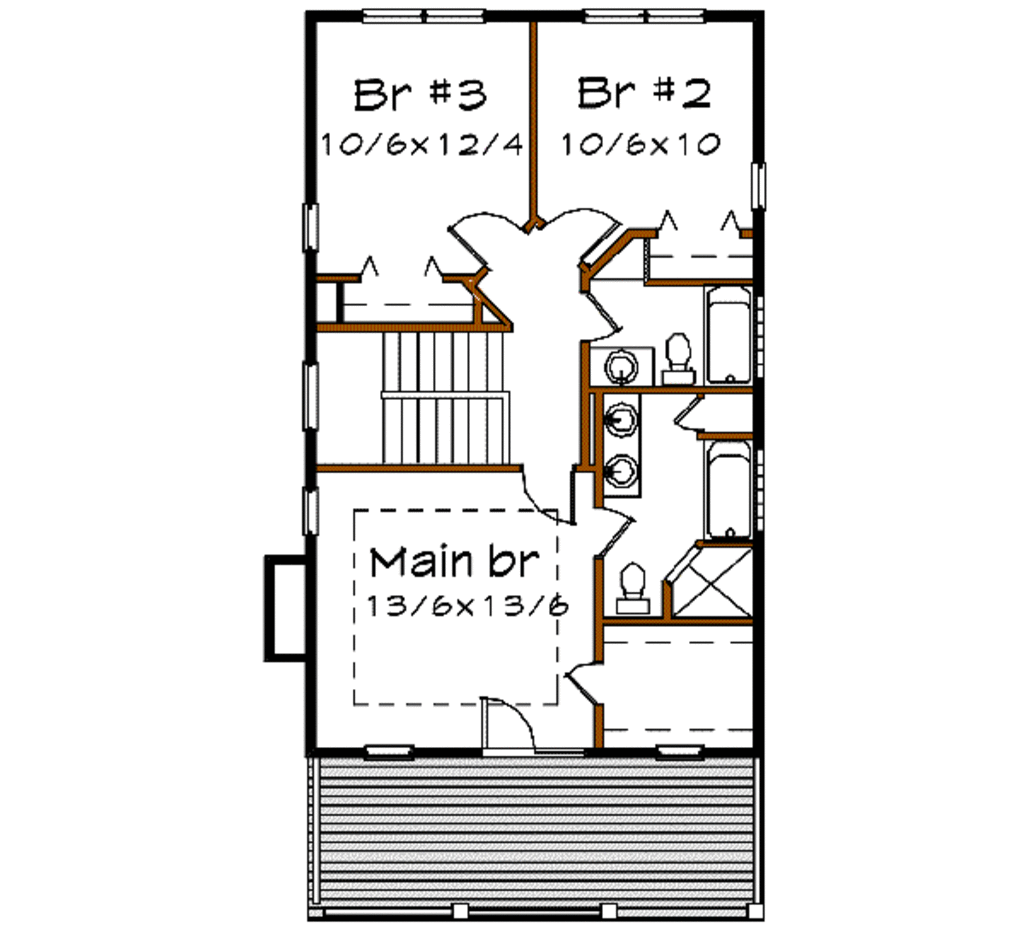door: (541, 186, 629, 262), (435, 206, 528, 269), (467, 691, 540, 755), (518, 468, 576, 531), (591, 499, 639, 559), (572, 288, 623, 342), (563, 649, 609, 704), (668, 391, 723, 432)
large_sink: (652, 328, 705, 398), (613, 550, 653, 616)
small_sink: (596, 392, 655, 501), (591, 344, 662, 386)
stairs: (312, 328, 532, 464)
tub: (691, 284, 752, 381), (696, 435, 751, 534)
window: (365, 2, 489, 28), (582, 4, 708, 28), (292, 354, 325, 429), (298, 202, 326, 255), (301, 485, 328, 539), (752, 161, 773, 215), (362, 741, 416, 758), (655, 744, 705, 761)
